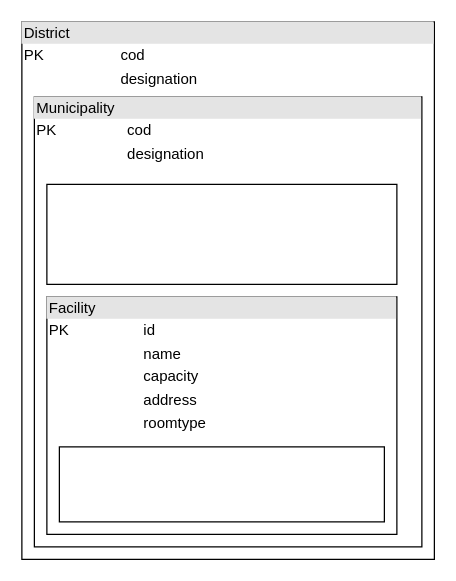
Image size: 456x581. Some labels were removed from this diagram. The centre of each missing label's shape, as x and y in pixels:
Activity activity: the point at 221,484
Region PK cod designation: the point at 221,233
